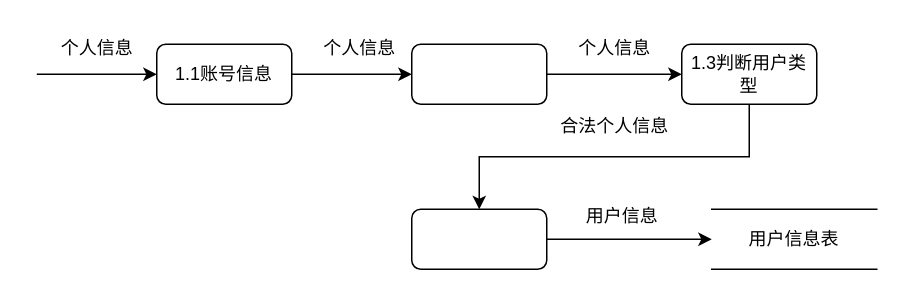
Some shapes in this 903 by 296 pixel diagram are drawn without their labels. The centre of each missing label's shape, as x and y in pixels:
"1.2账号信息" belongs at [478,73].
"1.4账号信息" belongs at [478,238].
